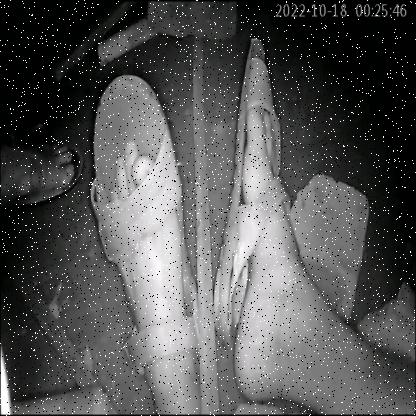leg: (207, 28, 416, 416), (87, 67, 206, 416), (0, 116, 89, 218)
